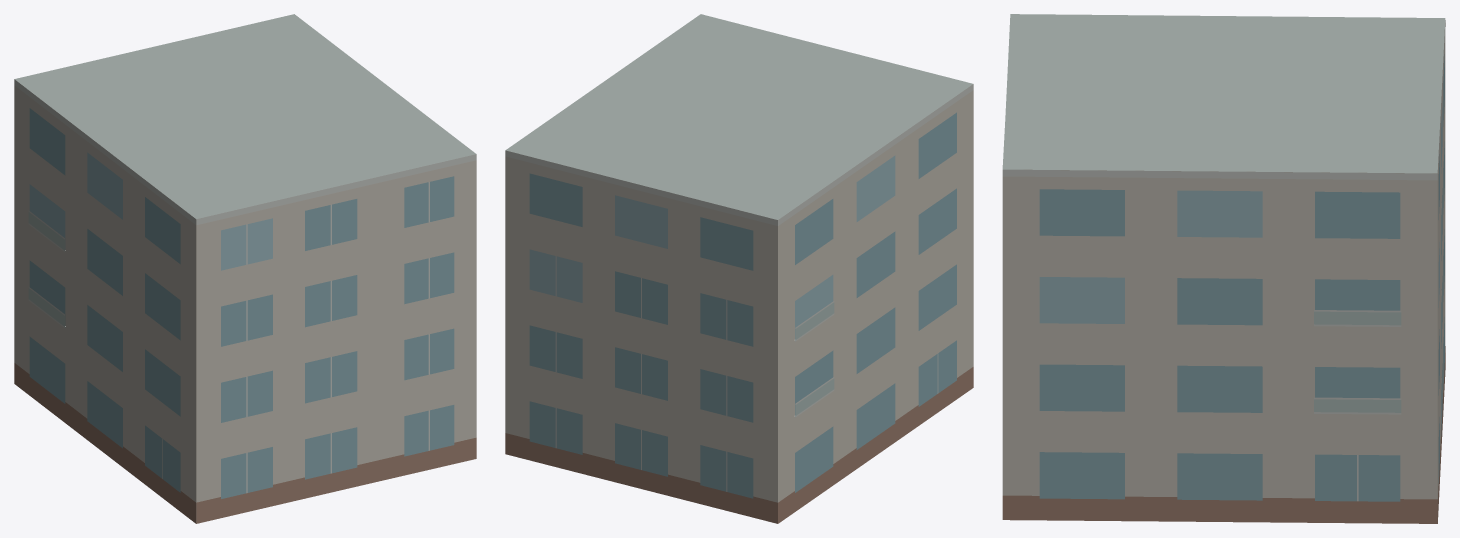
The model's file is residential-88385931-f3c4-4882-b822-85603b1ca3f5.glb.
The picture shows the model from 3 angles, left to right: view 1: azimuth 30°, elevation 25°; view 2: azimuth 150°, elevation 25°; view 3: azimuth 270°, elevation 25°; orthographic projection. The views are drawn at different scales.
Visible parts, largest first — view 1: residential-88385931-f3c4-4882-b822-85603b1ca3f5.tmp; view 2: residential-88385931-f3c4-4882-b822-85603b1ca3f5.tmp; view 3: residential-88385931-f3c4-4882-b822-85603b1ca3f5.tmp.
Boxes of the visible parts, <box> form: residential-88385931-f3c4-4882-b822-85603b1ca3f5.tmp: <box>14,14,476,523</box>; residential-88385931-f3c4-4882-b822-85603b1ca3f5.tmp: <box>505,14,973,523</box>; residential-88385931-f3c4-4882-b822-85603b1ca3f5.tmp: <box>1002,14,1445,523</box>.
Bounding box in the file's own units: 11.92 × 12.2 × 13.98.
